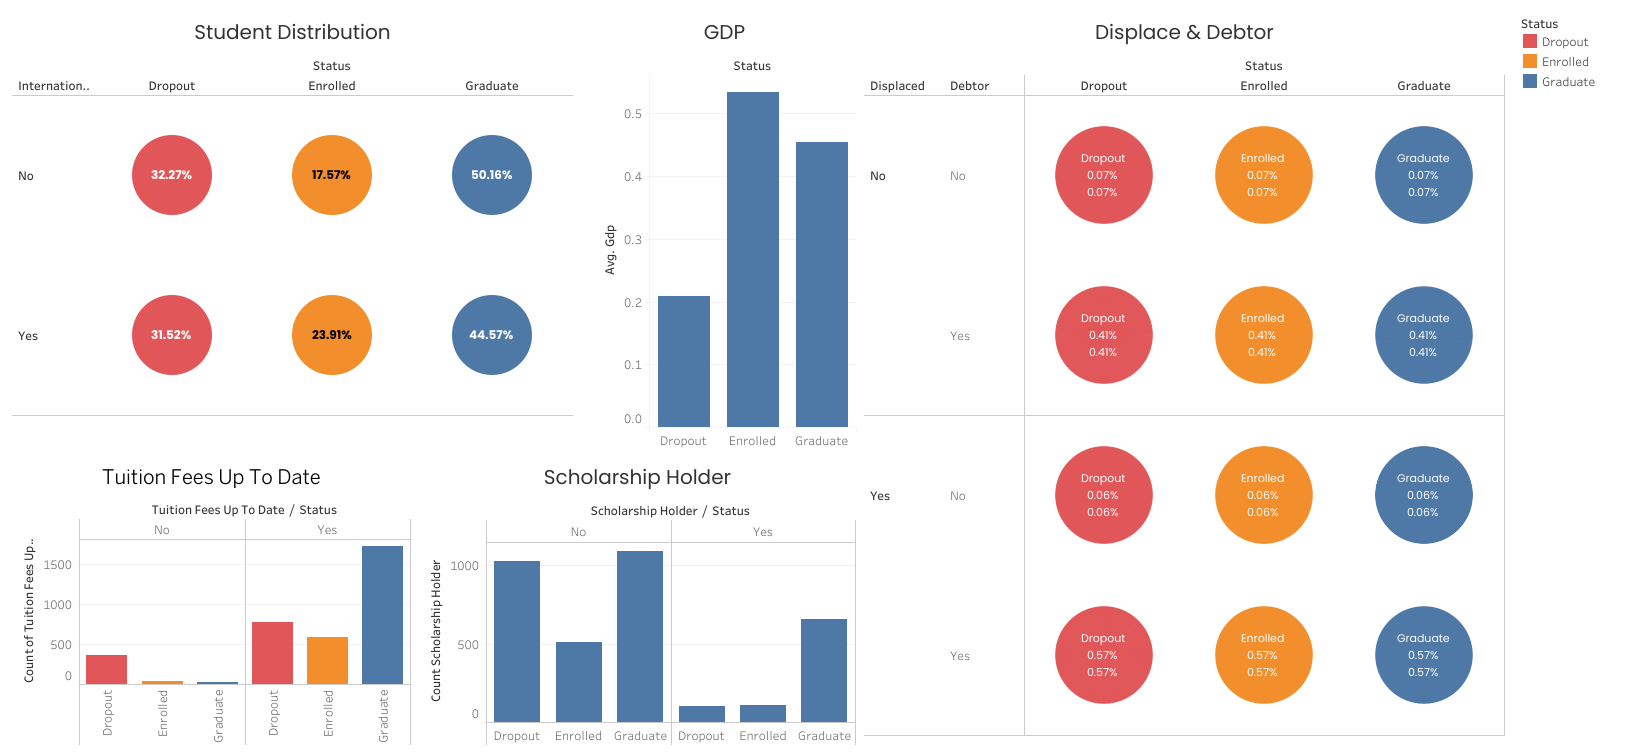

This screenshot's page, from the dashboard's own definition file:
{"tool":"tableau","page":{"name":"Dashboard 1","canvas":[1000,1000],"units":"permille","ordinal":0},"visuals":[{"type":"worksheet","title":"International","mark":"Pie","rows":["international"],"cols":["status"],"box":[4.9,10.6,356.9,587.3]},{"type":"worksheet","title":"GDP","mark":"Automatic","rows":["gdp"],"cols":["status"],"box":[361.8,10.6,166.5,587.3]},{"type":"worksheet","title":"Displace & Debtor","mark":"Pie","rows":["displaced","debtor"],"cols":["status"],"box":[528.3,10.6,402.9,978.9]},{"type":"legend","title":"International","param":"[federated.0ck3i7w0v5innc1898cav15uz3ra].[none:status:nk]","box":[931.2,10.6,63.9,978.9]},{"type":"worksheet","title":"Tuition Fees Up To Date","mark":"Automatic","rows":["tuition_fees_up_to_date"],"cols":["tuition_fees_up_to_date","status"],"box":[4.9,597.9,249.7,391.6]},{"type":"worksheet","title":"Scholarship Holder","mark":"Automatic","rows":["Calculation_1033294647157559298"],"cols":["scholarship_holder","status"],"box":[254.6,597.9,273.7,391.6]}]}

Visuals, with their boxes on the dashboard's canvas, which has no fixed pixel size, in thousandths of its width and height (x1, y1, x2, y2). These are canvas units, not pixel positions in the 1627x756 screenshot, which may show the page scaled, cropped or inside an application window:
"International" worksheet (Pie marks): (x1=5, y1=11, x2=362, y2=598)
"GDP" worksheet: (x1=362, y1=11, x2=528, y2=598)
"Displace & Debtor" worksheet (Pie marks): (x1=528, y1=11, x2=931, y2=990)
"International" legend: (x1=931, y1=11, x2=995, y2=990)
"Tuition Fees Up To Date" worksheet: (x1=5, y1=598, x2=255, y2=990)
"Scholarship Holder" worksheet: (x1=255, y1=598, x2=528, y2=990)
